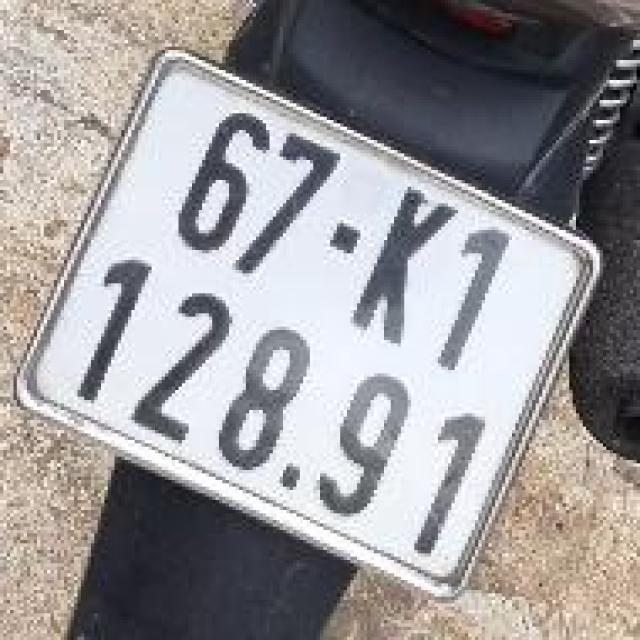1: (55, 241, 180, 419), (416, 206, 532, 381), (393, 398, 506, 570)
2: (118, 269, 260, 456)
6: (165, 94, 290, 270)
7: (223, 124, 350, 294)
8: (201, 311, 330, 491)
9: (304, 357, 431, 531)
K: (335, 170, 474, 357)
